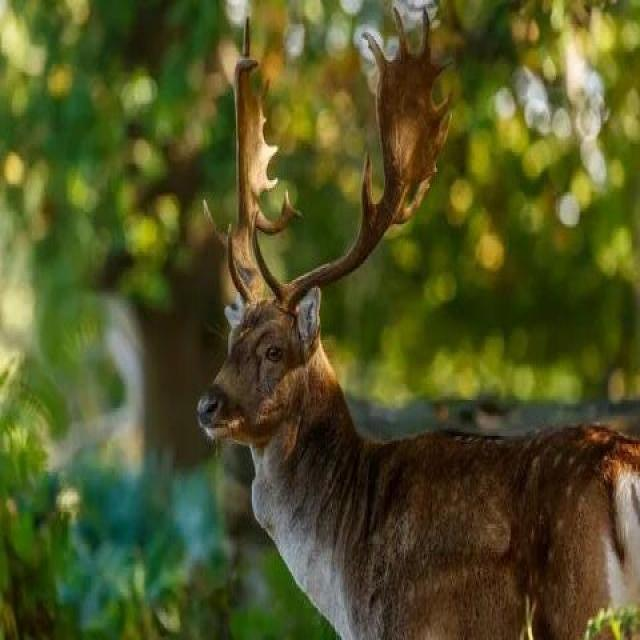deer: (196, 2, 628, 640)
